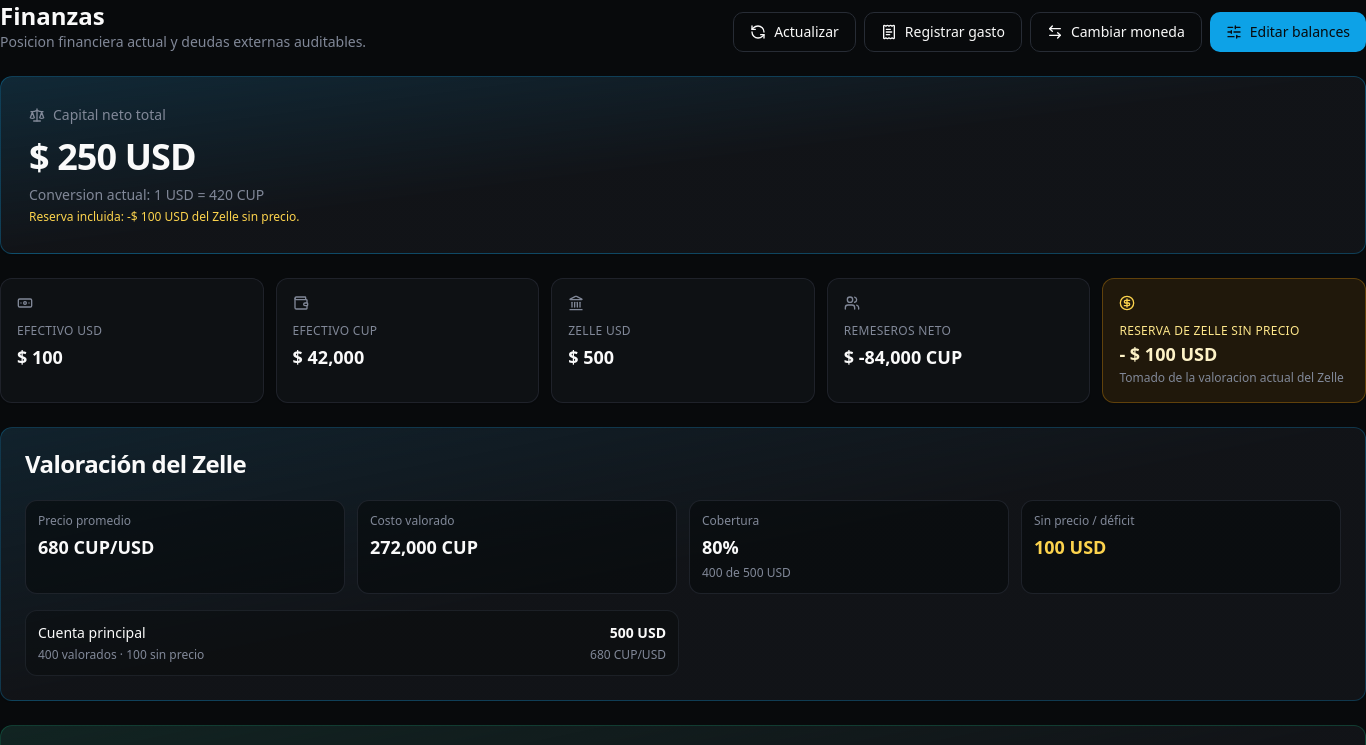
Test case: FinancesView › sends editable balances and rate through the audited settings endpoint
Later steps or results of the test are not shown.
Expected: the text "$ 250 USD" is shown, 29,132 -> 196,181
Click the button "Editar balances".
click(1288, 32)  # box 1210,12 -> 1365,52
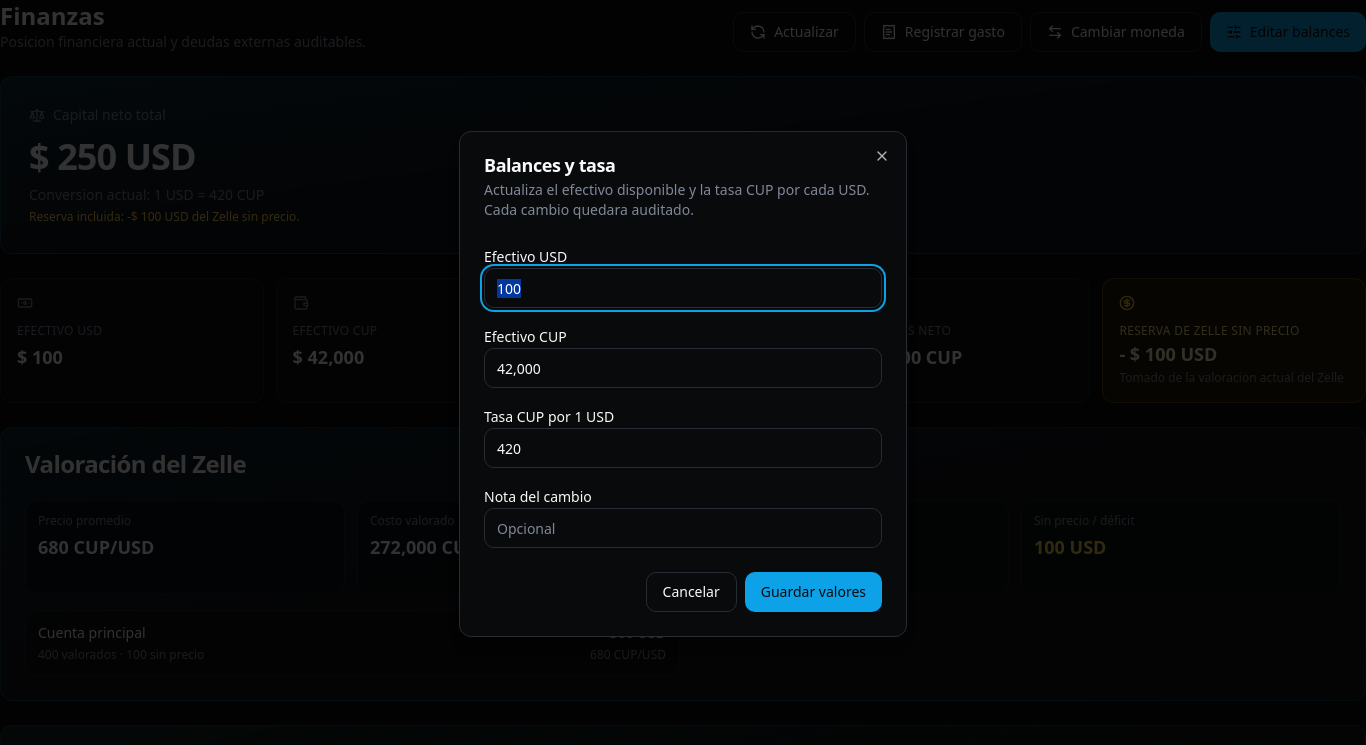
Now the field labelled "Efectivo CUP" holds "42,000", box 484,348 -> 882,388
Replace the text in the field labelled "Efectivo USD" with "250500.5" at (683,288), box 484,268 -> 882,308
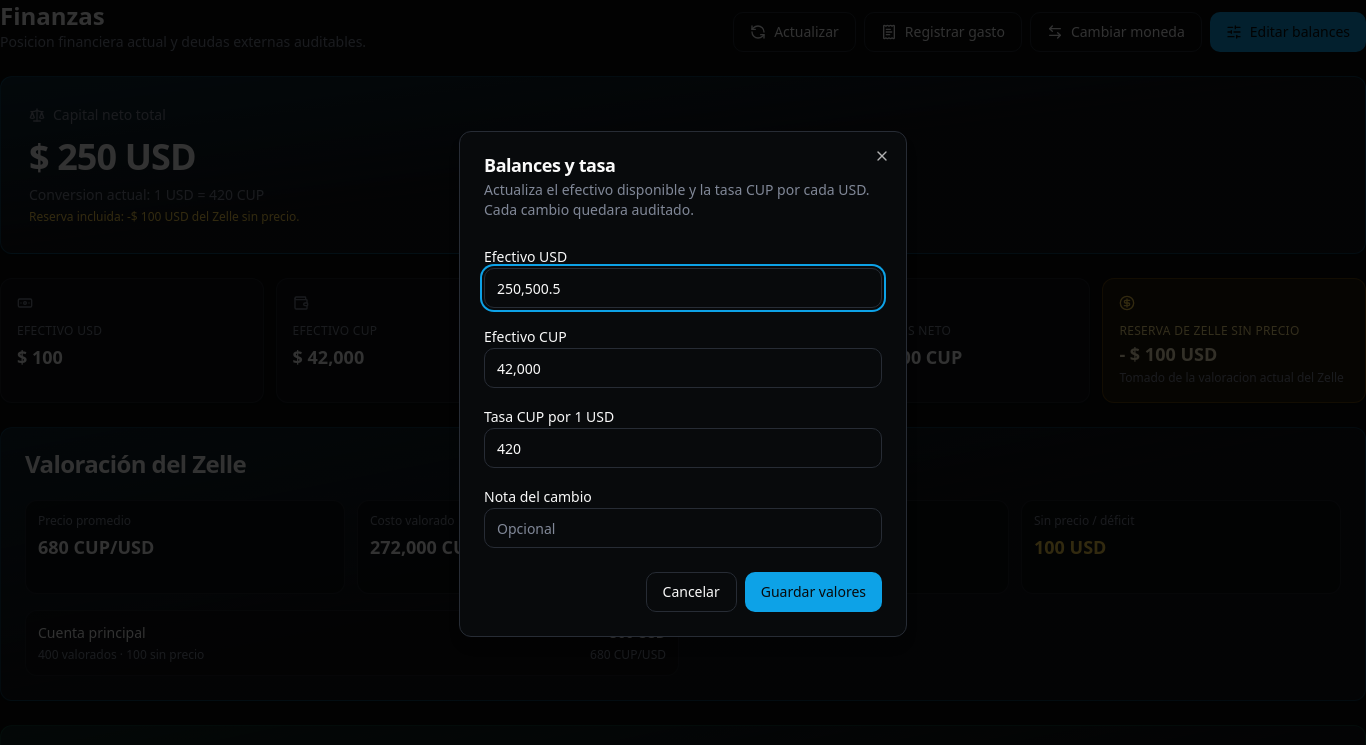
Now the field labelled "Efectivo USD" holds "250,500.5", box 484,268 -> 882,308
